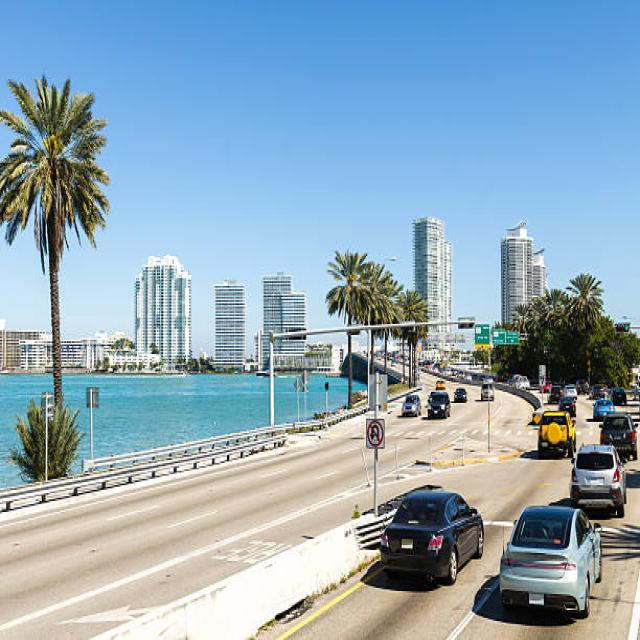Car: (499, 504, 602, 618), (380, 484, 484, 584), (569, 442, 626, 517), (426, 390, 449, 418), (592, 397, 615, 420), (402, 394, 422, 416), (480, 381, 494, 400), (453, 388, 466, 402)
Traffic-light: (615, 321, 629, 332)
Traffic-sign: (472, 329, 527, 345)
